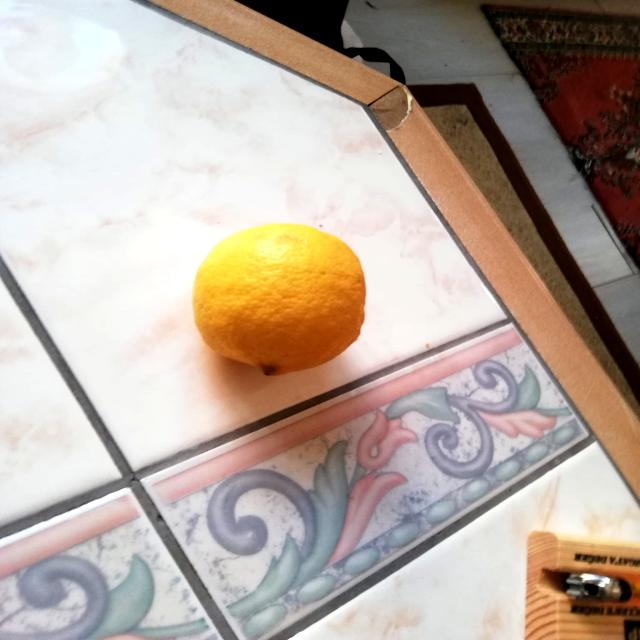lemon: (180, 197, 382, 393)
